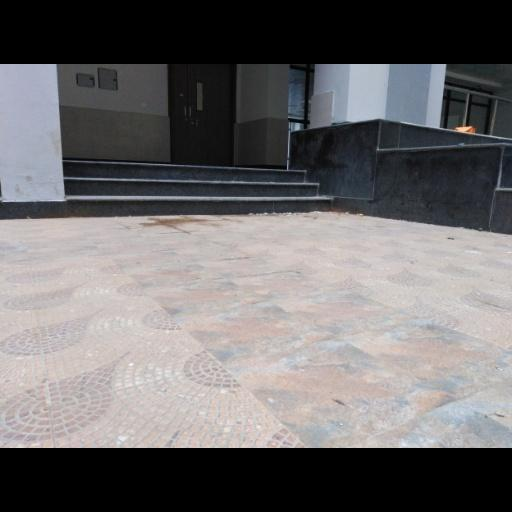stairs: (63, 159, 331, 215)
